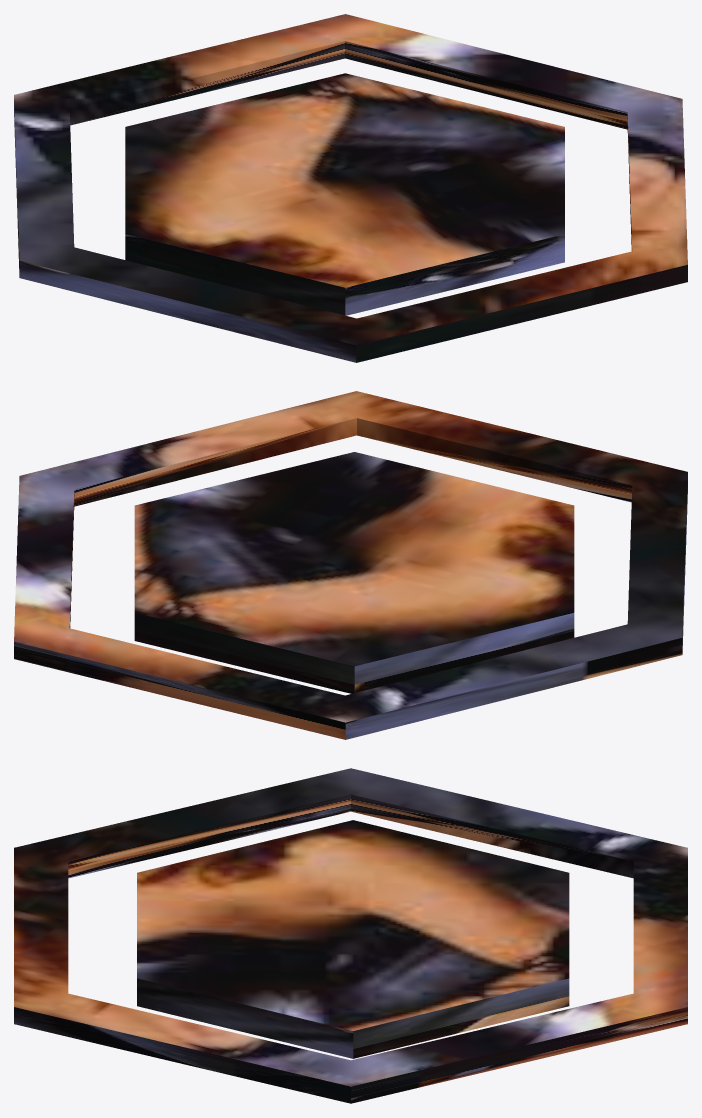
File: Attack.fbx
3 renders of one model, top to bottom at view 1: azimuth 30°, elevation 25°; view 2: azimuth 150°, elevation 25°; view 3: azimuth 270°, elevation 25°, orthographic.
Visible parts, largest first — view 1: Cylinder.003; view 2: Cylinder.003; view 3: Cylinder.003.
Boxes of the visible parts, <box> form: Cylinder.003: <box>14,14,687,362</box>; Cylinder.003: <box>14,391,687,739</box>; Cylinder.003: <box>14,768,687,1103</box>.
Size of the model in its own units: 181 by 7.46 by 162.
